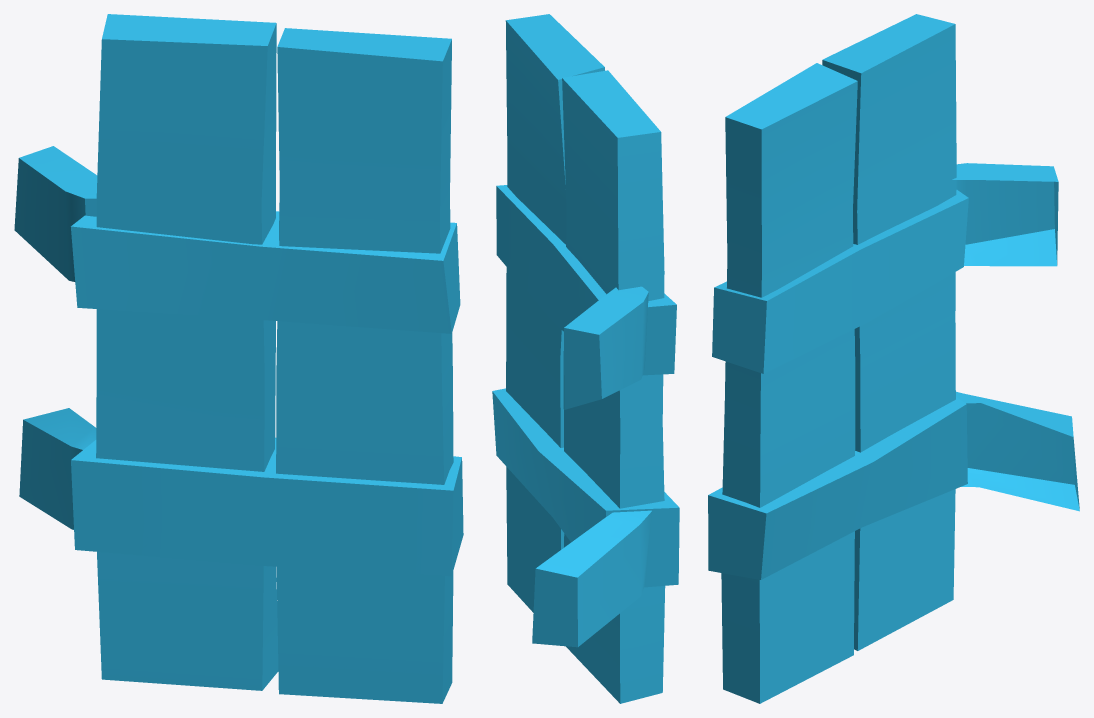
File: Windows_shutters_R.fbx
The picture shows the model from 3 angles, left to right: view 1: azimuth 30°, elevation 25°; view 2: azimuth 150°, elevation 25°; view 3: azimuth 270°, elevation 25°; orthographic projection. The views are drawn at different scales.
Visible parts, largest first — view 1: Windows_shutters_R; view 2: Windows_shutters_R; view 3: Windows_shutters_R.
Part boxes in pixels (x1=…): Windows_shutters_R: x1=14, y1=14, x2=463, y2=703; Windows_shutters_R: x1=492, y1=14, x2=679, y2=703; Windows_shutters_R: x1=708, y1=14, x2=1079, y2=703.
Bounding box in the file's own units: 110 × 225 × 131.
